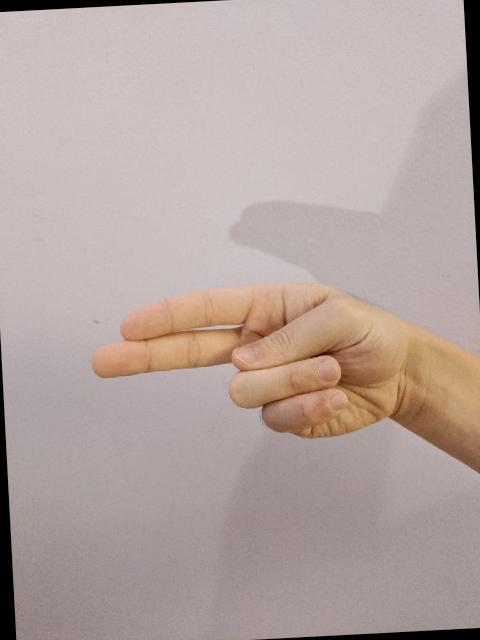H: (80, 264, 402, 461)
